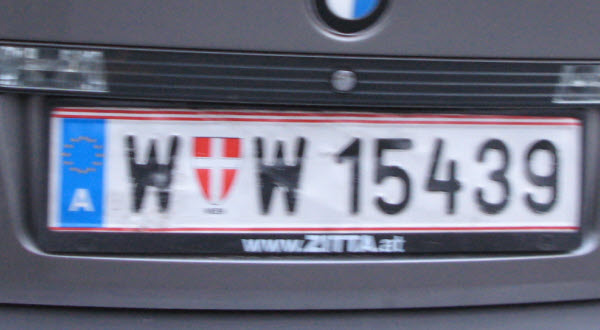license_plate: (45, 103, 582, 236)
